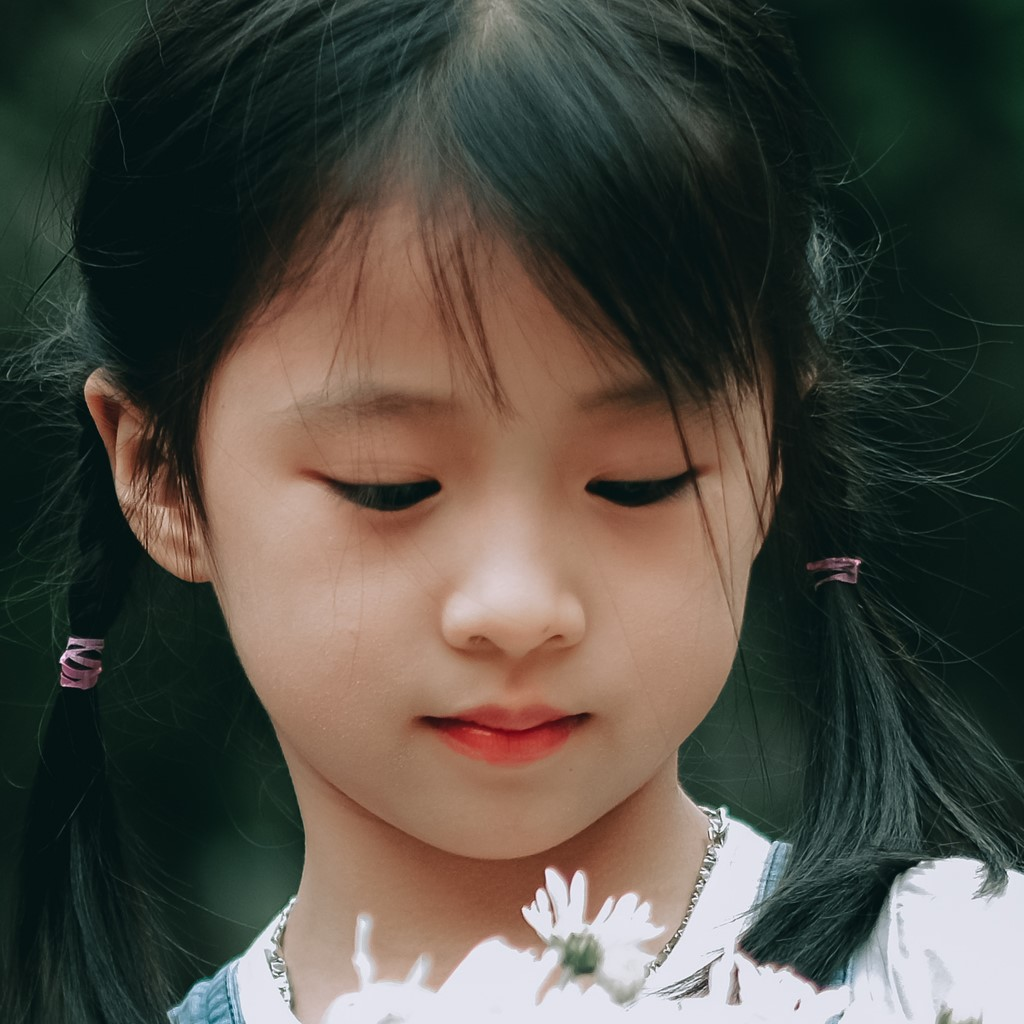sin_mascara: (181, 74, 771, 852)
